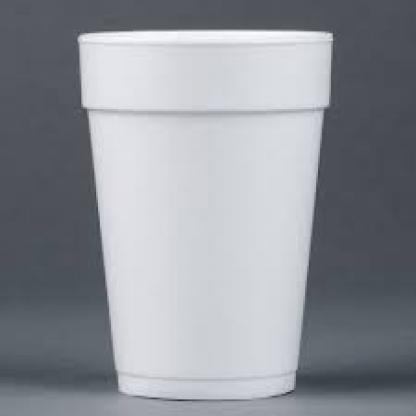paper: (76, 26, 333, 401)
